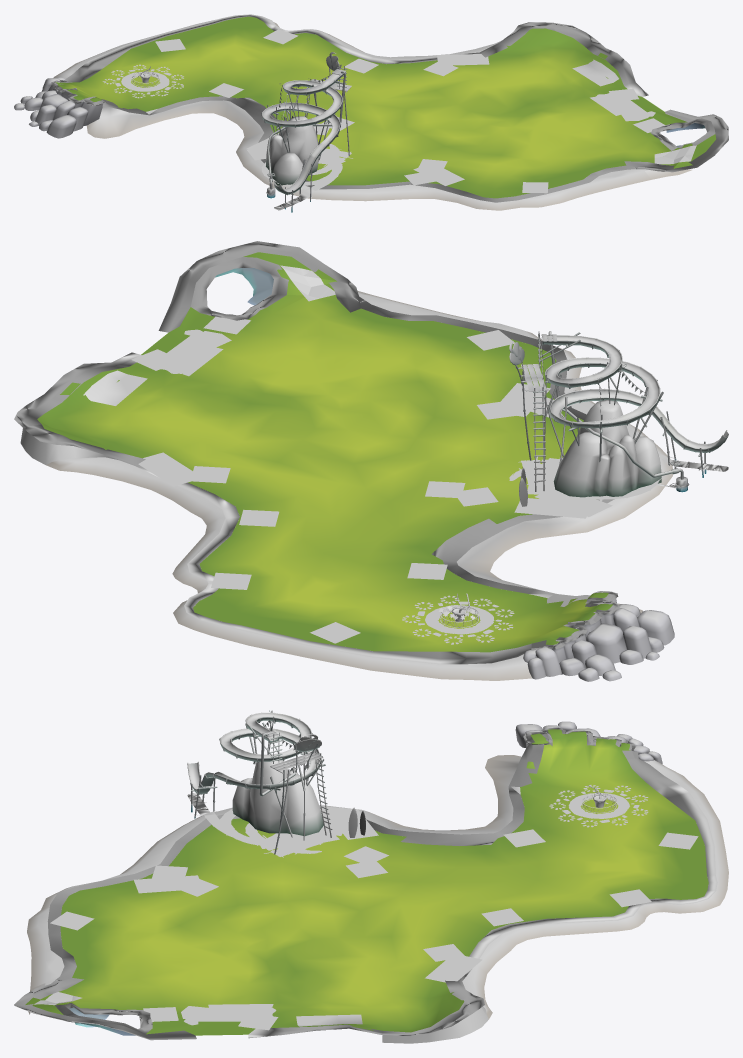
File: Terrain_SecondIslandsUnique.fbx
The picture shows the model from 3 angles, top to bottom: view 1: azimuth 30°, elevation 25°; view 2: azimuth 150°, elevation 25°; view 3: azimuth 270°, elevation 25°; orthographic projection. The views are drawn at different scales.
Visible parts, largest first — view 1: Unique_Island02_grass, Unique_Island02_skirt, Unique_Island02_sand, Terrain_Island02Cards01_Mesh, Terrain_Island02_WaterSlide_Mesh, Unique_Island02_SquareRockTops, Terrain_DecorIslandsMts_Mesh1, Terrain_Island02_Topiary_Mesh, Terrain_Island02_WaterSlide_shadow, Terrain_Island02Cobblestone_Mesh; view 2: Unique_Island02_grass, Unique_Island02_skirt, Unique_Island02_sand, Terrain_Island02Cards01_Mesh, Terrain_Island02_WaterSlide_Mesh, Unique_Island02_SquareRockTops, Terrain_DecorIslandsMts_Mesh1, Terrain_Island02_Topiary_Mesh, Unique_Island02_Cliff, Terrain_Island02_WaterSlide_shadow, Terrain_Island02Cobblestone_Mesh; view 3: Unique_Island02_grass, Unique_Island02_skirt, Unique_Island02_sand, Terrain_Island02Cards01_Mesh, Terrain_Island02_WaterSlide_Mesh, Terrain_DecorIslandsMts_Mesh1, Terrain_Island02_Topiary_Mesh, Unique_Island02_Cliff, Terrain_Island02_WaterSlide_shadow, Unique_Island02_SquareRockTops, Terrain_Island02Cobblestone_Mesh.
Part boxes in pixels (box(x1,y1,x2,y2)): Unique_Island02_grass: box(55, 16, 716, 198); Unique_Island02_skirt: box(51, 14, 728, 202); Unique_Island02_sand: box(53, 19, 691, 210); Terrain_Island02Cards01_Mesh: box(155, 29, 696, 193); Terrain_Island02_WaterSlide_Mesh: box(261, 52, 351, 212); Unique_Island02_SquareRockTops: box(14, 77, 102, 138); Terrain_DecorIslandsMts_Mesh1: box(266, 116, 318, 185); Terrain_Island02_Topiary_Mesh: box(102, 64, 183, 98); Terrain_Island02_WaterSlide_shadow: box(261, 144, 352, 210); Terrain_Island02Cobblestone_Mesh: box(600, 92, 651, 117); Unique_Island02_grass: box(37, 252, 612, 652); Unique_Island02_skirt: box(14, 241, 619, 664); Unique_Island02_sand: box(46, 290, 672, 680); Terrain_Island02Cards01_Mesh: box(83, 265, 612, 643); Terrain_Island02_WaterSlide_Mesh: box(509, 331, 728, 492); Unique_Island02_SquareRockTops: box(523, 598, 674, 681); Terrain_DecorIslandsMts_Mesh1: box(553, 399, 661, 497); Terrain_Island02_Topiary_Mesh: box(402, 593, 514, 644); Unique_Island02_Cliff: box(20, 268, 273, 464); Terrain_Island02_WaterSlide_shadow: box(509, 453, 728, 501); Terrain_Island02Cobblestone_Mesh: box(154, 333, 219, 370); Unique_Island02_grass: box(25, 729, 708, 1035); Unique_Island02_skirt: box(14, 727, 717, 1040); Unique_Island02_sand: box(27, 755, 728, 1019); Terrain_Island02Cards01_Mesh: box(34, 806, 698, 1030); Terrain_Island02_WaterSlide_Mesh: box(187, 710, 332, 854); Terrain_DecorIslandsMts_Mesh1: box(232, 760, 323, 835); Terrain_Island02_Topiary_Mesh: box(549, 785, 648, 827); Unique_Island02_Cliff: box(69, 1006, 488, 1043); Terrain_Island02_WaterSlide_shadow: box(187, 793, 322, 857); Unique_Island02_SquareRockTops: box(515, 721, 662, 764); Terrain_Island02Cobblestone_Mesh: box(186, 1008, 270, 1023).
Bounding box in the file's own units: 5902 × 1155 × 5611.
